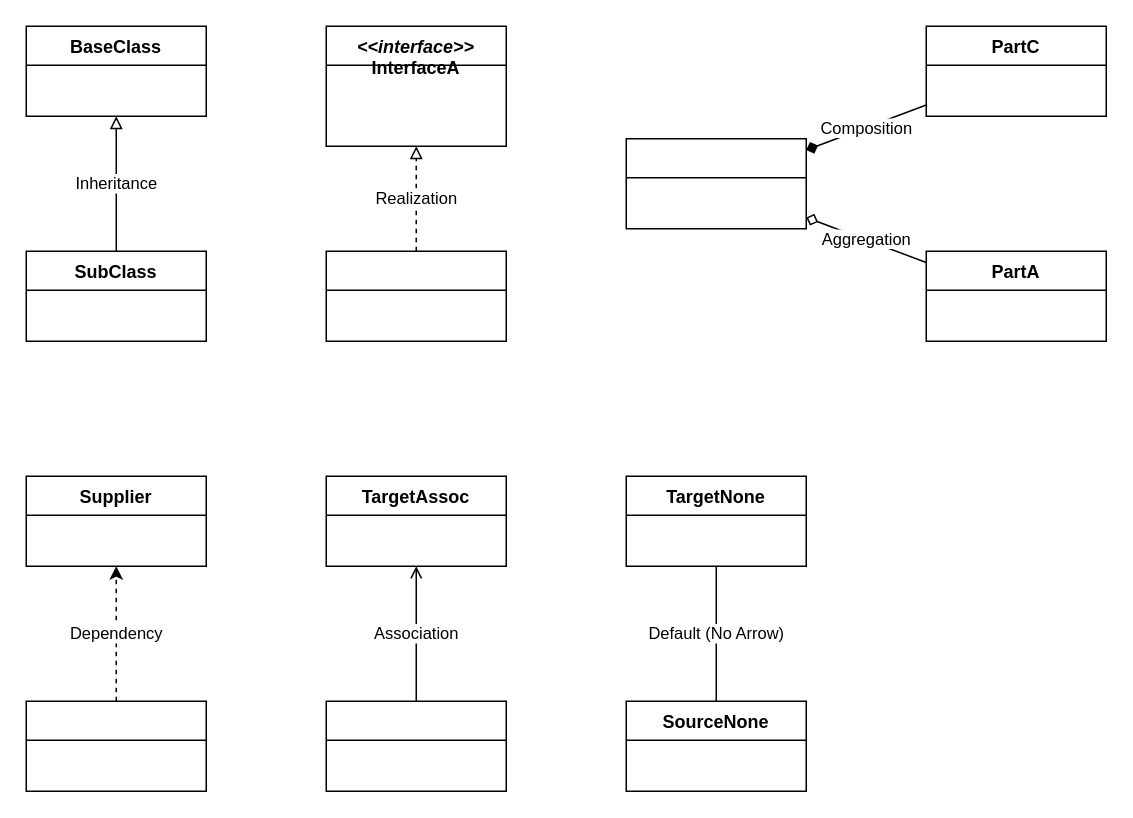
The diagram is 1133 pixels wide and 818 high, and some of its shapes have lost their labels. Here are the shapes that lost their labels. From the top down, the centre of each, then its label:
At point (715, 183): "Whole".
At point (415, 295): "ClassA".
At point (115, 745): "Client".
At point (415, 745): "SourceAssoc".
